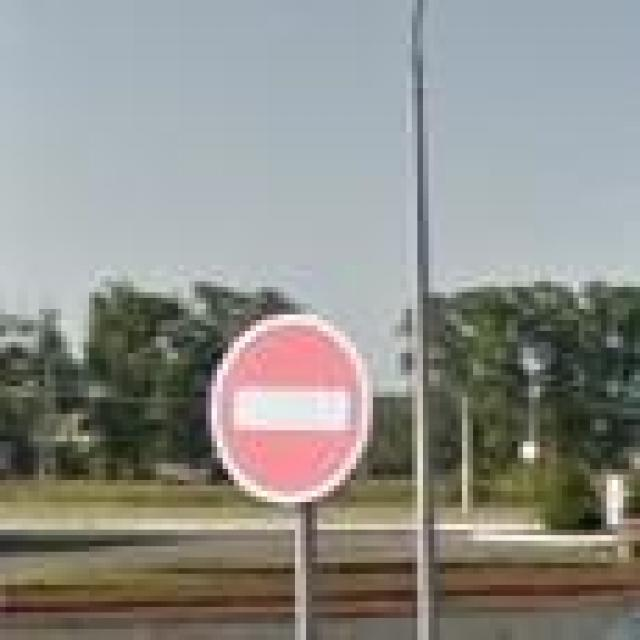Zakaz wjazdu: (206, 314, 378, 508)
